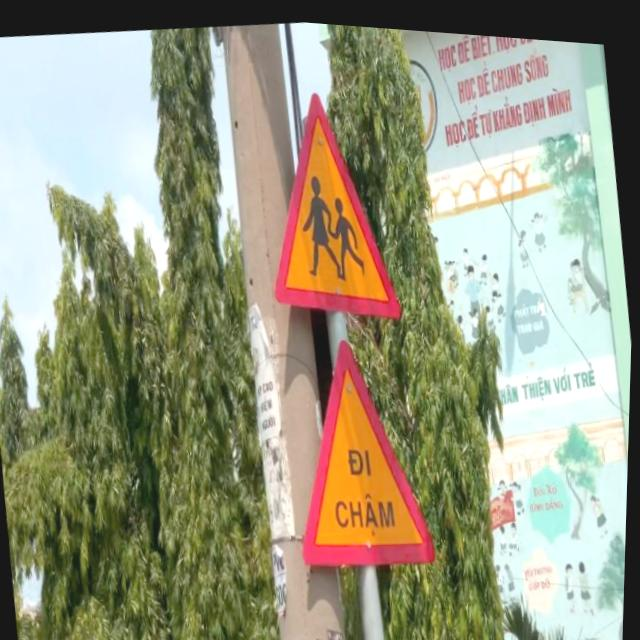Di cham: (275, 318, 452, 581)
Tre em: (246, 64, 415, 335)
